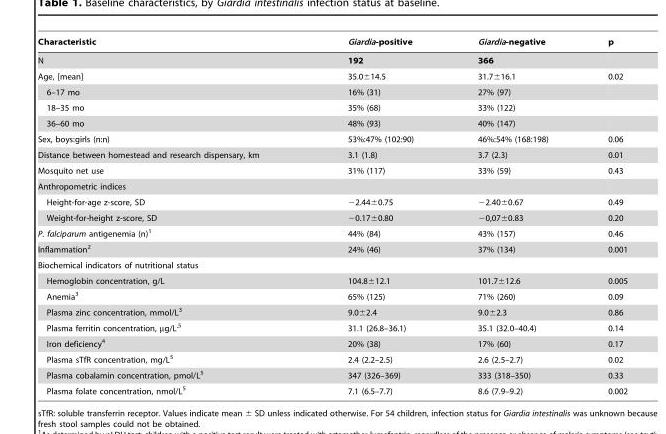table: (37, 37, 627, 395)
table column: (37, 37, 302, 395), (302, 37, 444, 395), (444, 37, 577, 395), (577, 37, 627, 395)
table column header: (37, 37, 627, 50)
table projected row header: (37, 178, 627, 193), (37, 257, 627, 272)
table row: (37, 50, 627, 67), (37, 67, 627, 84), (37, 240, 627, 257), (37, 99, 627, 115), (37, 115, 627, 131), (37, 146, 627, 162), (37, 162, 627, 178), (37, 193, 627, 209), (37, 224, 627, 240), (37, 287, 627, 303), (37, 303, 627, 319), (37, 319, 627, 335), (37, 350, 627, 366), (37, 366, 627, 382), (37, 84, 627, 99), (37, 131, 627, 146), (37, 178, 627, 193), (37, 209, 627, 224), (37, 257, 627, 272), (37, 272, 627, 287), (37, 335, 627, 350), (37, 37, 627, 50), (37, 382, 627, 395)
